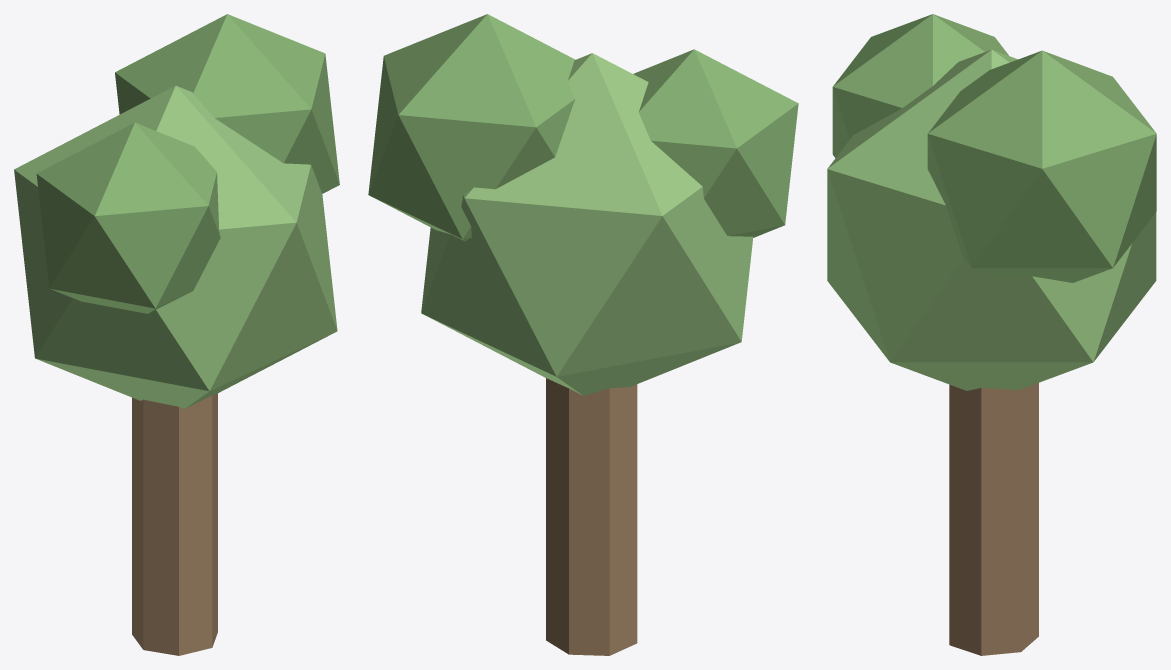
Rendered from tree_round.glb.
3 renders of one model, left to right at view 1: azimuth 30°, elevation 25°; view 2: azimuth 150°, elevation 25°; view 3: azimuth 270°, elevation 25°, orthographic. The views are drawn at different scales.
Parts seen in each view (by area): view 1: tree_round; view 2: tree_round; view 3: tree_round.
Part boxes in pixels (x1=…): tree_round: x1=14, y1=14, x2=339, y2=655; tree_round: x1=368, y1=14, x2=798, y2=655; tree_round: x1=827, y1=14, x2=1156, y2=655.
Size of the model in its own units: 2.39 by 4.1 by 1.96.
